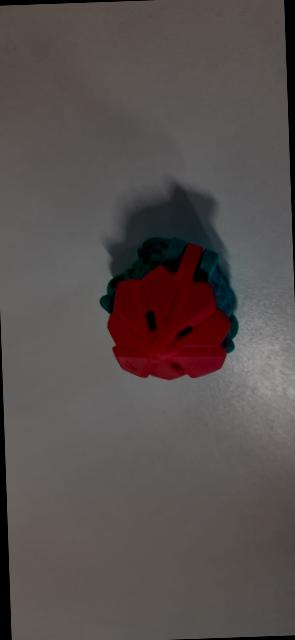House: (96, 224, 247, 394)
